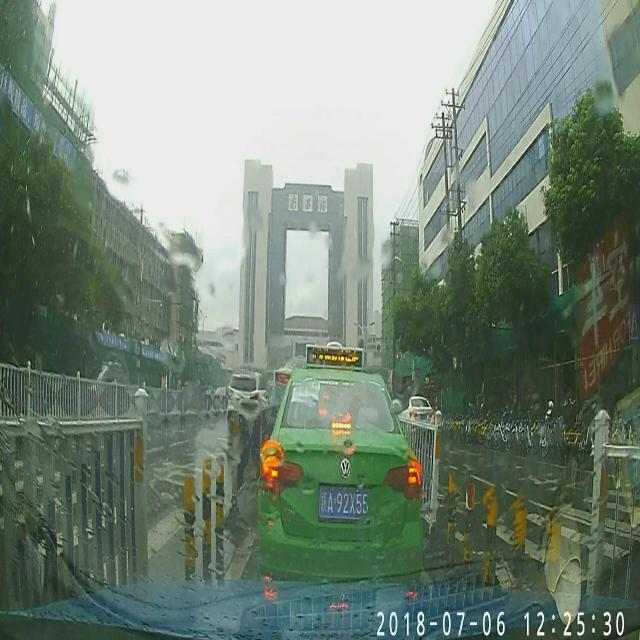car: (256, 341, 426, 594), (224, 372, 271, 427), (396, 394, 436, 436)
